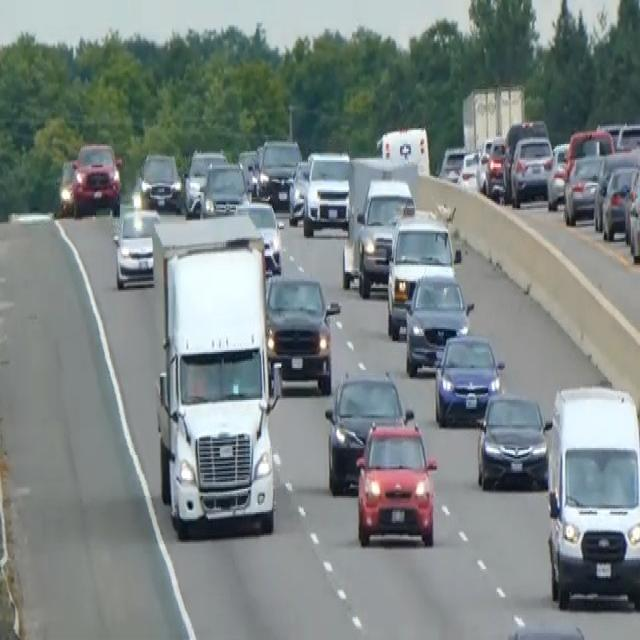car: (324, 368, 412, 494), (354, 418, 437, 548), (264, 270, 340, 395), (385, 215, 460, 340), (475, 389, 549, 491), (403, 270, 473, 375), (355, 176, 415, 297), (433, 331, 504, 426), (302, 150, 350, 236), (112, 203, 160, 288), (233, 197, 283, 274), (71, 141, 121, 215), (510, 134, 555, 206), (562, 151, 605, 224), (256, 137, 301, 206), (199, 158, 250, 217), (182, 148, 226, 215), (136, 150, 183, 212), (601, 164, 636, 240), (475, 134, 506, 196), (546, 142, 570, 210), (287, 158, 310, 224), (625, 164, 639, 262), (56, 157, 78, 215), (438, 142, 468, 183), (237, 146, 260, 192)
lorry: (150, 215, 281, 539)
minibus: (543, 380, 639, 610)
